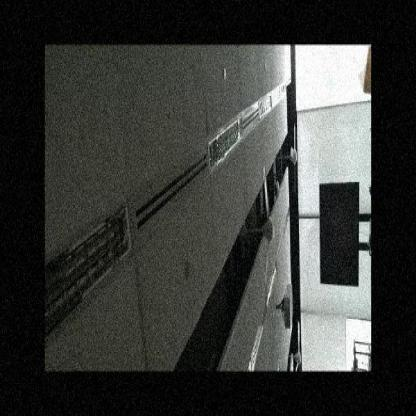light_off: (46, 188, 133, 338), (199, 108, 249, 174)
